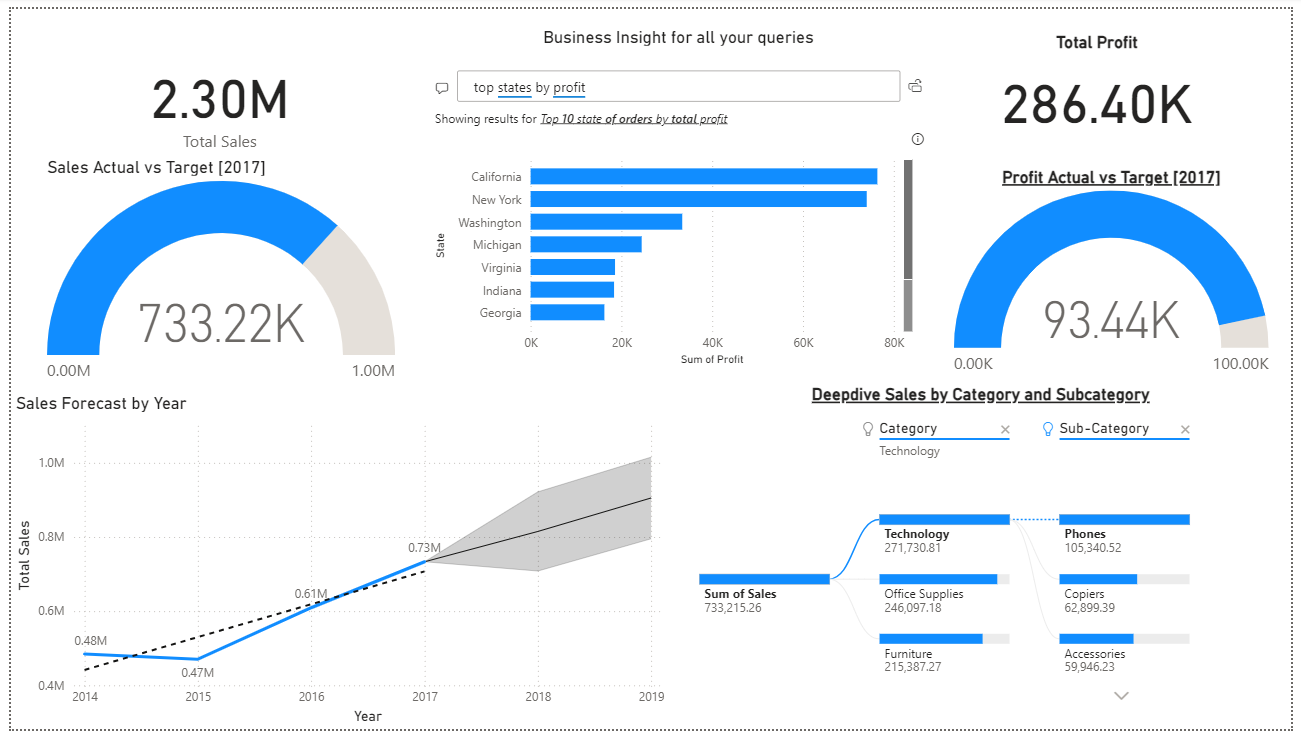

The dashboard page shown, as its layout file describes it:
{"tool":"powerbi","page":{"name":"strategic business decisions","canvas":[1280,720],"ordinal":4},"visuals":[{"type":"card","title":"Total Profit","fields":{"Values":["Sum(Orders.Profit)"]},"box":[974.7,22.9,222.1,111.7],"z":0},{"type":"card","fields":{"Values":["Sum(Orders.Sales)"]},"box":[39,40.4,340.6,107.7],"z":1000},{"type":"lineChart","title":"Sales Forecast by Year","fields":{"Category":["Orders.Order Date.Variation.Date Hierarchy.Year"],"Y":["Sum(Orders.Sales)"]},"box":[0,383.7,658.3,336.6],"z":2000},{"type":"gauge","fields":{"Y":["Sum(Orders.Sales)"]},"box":[31,148.1,358.1,235.6],"z":3000},{"type":"gauge","fields":{"Y":["Sum(Orders.Profit)"]},"box":[919.5,157.5,360.8,218.1],"z":4000},{"type":"decompositionTreeVisual","title":"Deepdive Sales by Category and Subcategory","fields":{"ExplainBy":["Orders.Category","Orders.Sub-Category"],"Analyze":["Sum(Orders.Sales)"]},"box":[658.3,375.6,622,344.6],"z":5000},{"type":"qnaVisual","title":"Business Insight for all your queries","box":[414.6,17.5,504.8,358.1],"z":6000}]}

Visuals, with their boxes in screenshot pixels (x1, y1, x2, y2), scaled from the page's 1280x720 canvas onto the 1301x742 screenshot:
"Total Profit" card: left=991, top=24, right=1216, bottom=139
card - Sum(Orders.Sales): left=40, top=42, right=386, bottom=153
"Sales Forecast by Year" lineChart: left=0, top=395, right=669, bottom=741
gauge - Sum(Orders.Sales): left=32, top=153, right=395, bottom=395
gauge - Sum(Orders.Profit): left=935, top=162, right=1300, bottom=387
"Deepdive Sales by Category and Subcategory" decompositionTreeVisual: left=669, top=387, right=1300, bottom=741
"Business Insight for all your queries" qnaVisual: left=421, top=18, right=934, bottom=387
